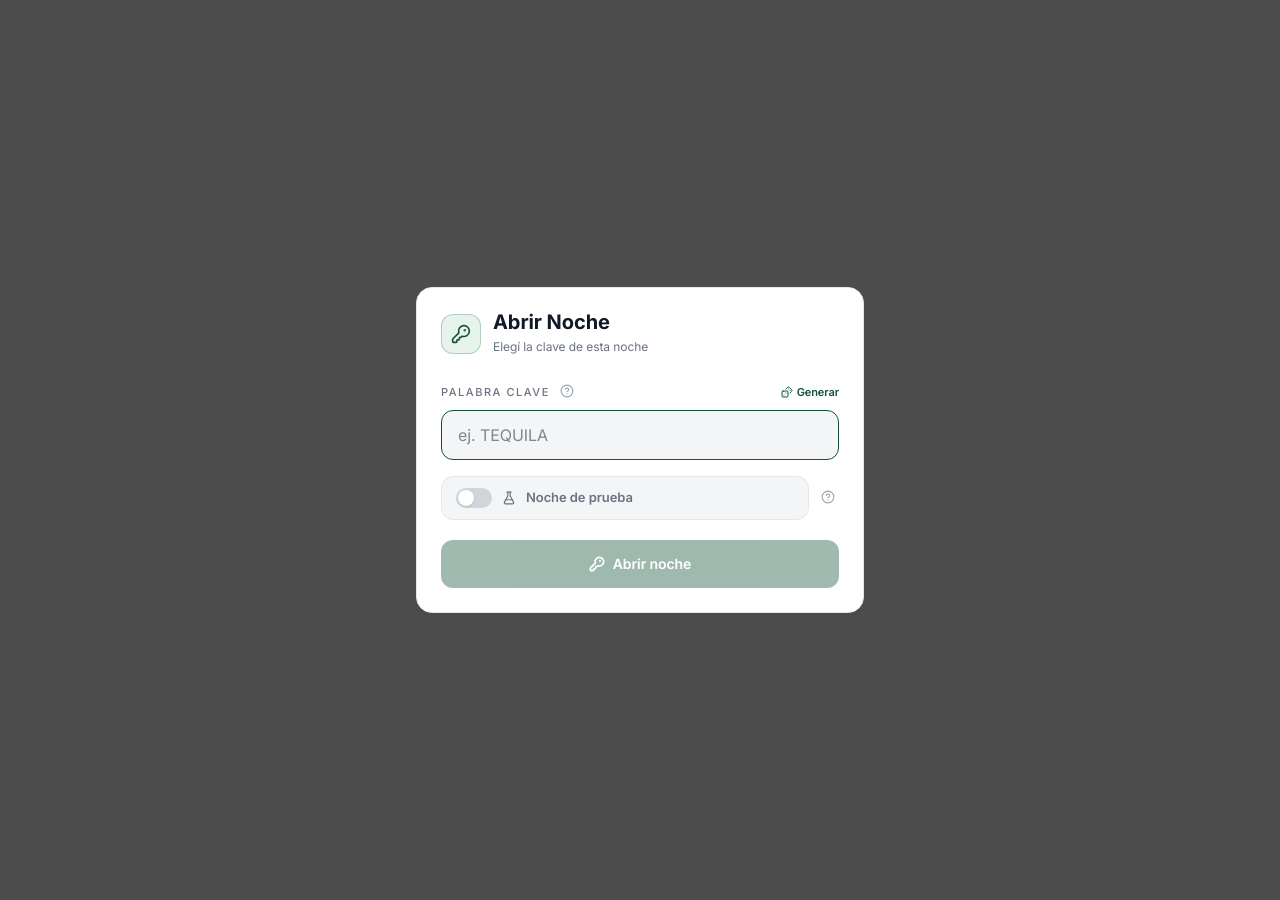
Test case: OpenNightModal › modo open › ofrece el toggle de noche de prueba, apagado por defecto (A1)
This screenshot has width=1280, height=900.
Click the button named "qué es noche de prueba" at (828, 497), box [817, 486, 839, 508]
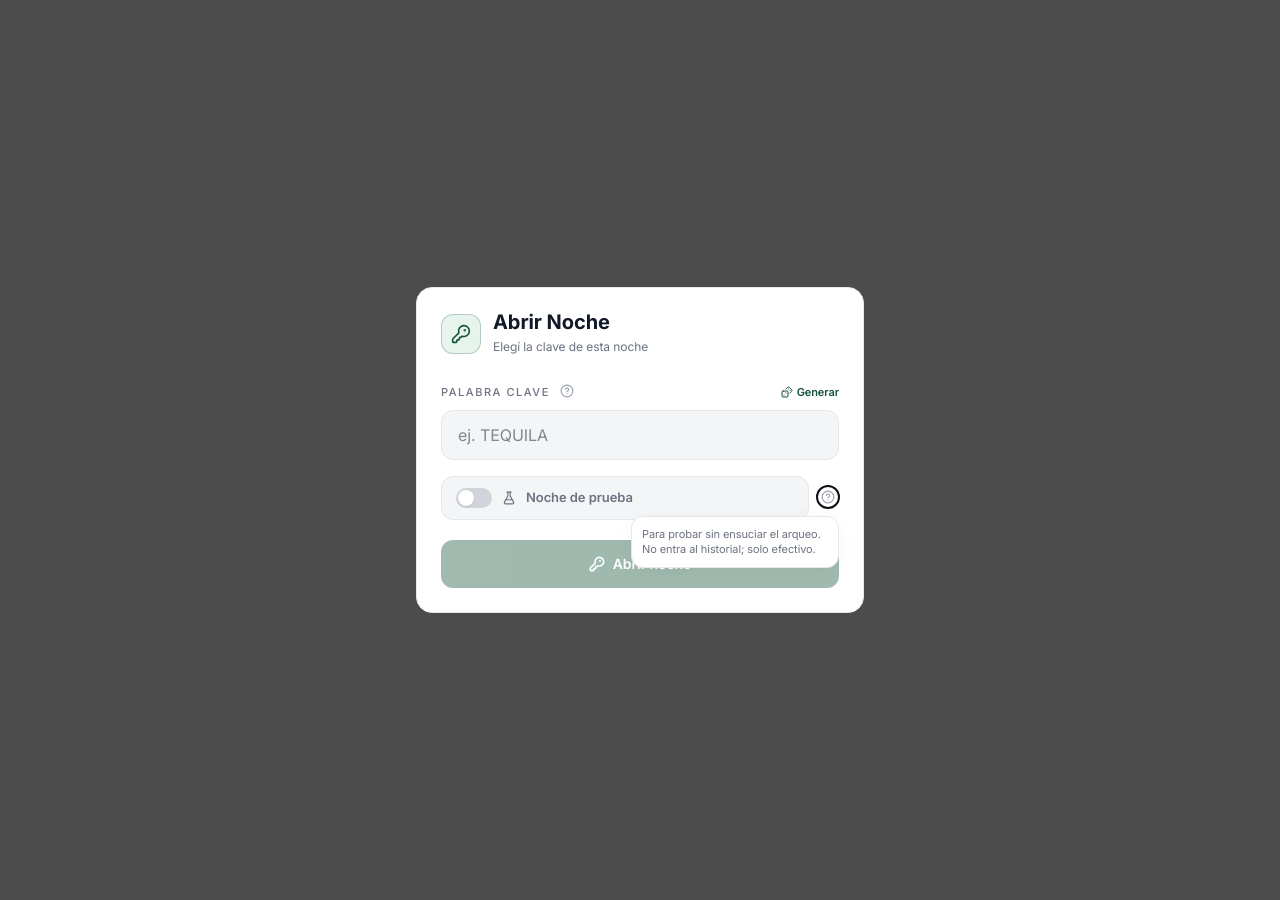
Expected: the text "sin ensuciar el arqueo" is shown, [642, 527, 821, 556]
